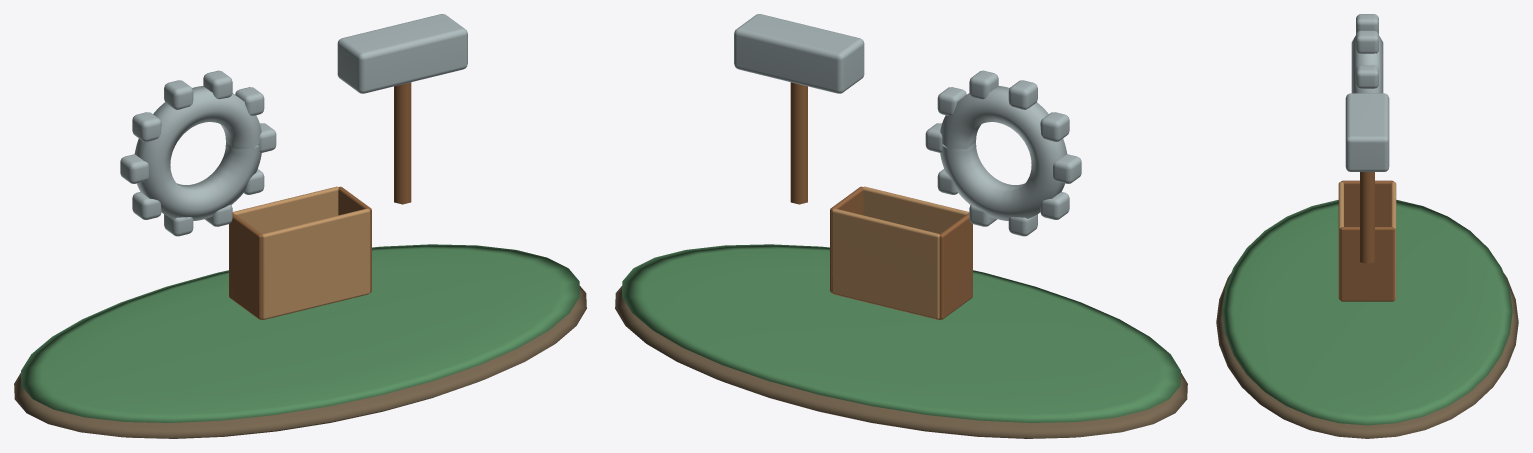
The model's file is complete-second-manufactured-built.glb.
3 views of the same model, side by side, from view 1: azimuth 30°, elevation 25°; view 2: azimuth 150°, elevation 25°; view 3: azimuth 270°, elevation 25° (orthographic). The views are drawn at different scales.
Parts seen in each view (by area): view 1: complete-second-manufactured-built_surface_01, complete-second-manufactured-built_surface_02, complete-second-manufactured-built_surface_04, complete-second-manufactured-built_surface_00, complete-second-manufactured-built_surface_03; view 2: complete-second-manufactured-built_surface_01, complete-second-manufactured-built_surface_02, complete-second-manufactured-built_surface_04, complete-second-manufactured-built_surface_00, complete-second-manufactured-built_surface_03; view 3: complete-second-manufactured-built_surface_01, complete-second-manufactured-built_surface_03, complete-second-manufactured-built_surface_02, complete-second-manufactured-built_surface_00, complete-second-manufactured-built_surface_04.
Part boxes in pixels (box(x1,y1,x2,y2)): complete-second-manufactured-built_surface_01: box(21, 244, 579, 422); complete-second-manufactured-built_surface_02: box(120, 14, 467, 236); complete-second-manufactured-built_surface_04: box(232, 186, 370, 319); complete-second-manufactured-built_surface_00: box(14, 286, 586, 438); complete-second-manufactured-built_surface_03: box(229, 82, 411, 319); complete-second-manufactured-built_surface_01: box(622, 244, 1180, 422); complete-second-manufactured-built_surface_02: box(734, 14, 1081, 236); complete-second-manufactured-built_surface_04: box(831, 186, 969, 319); complete-second-manufactured-built_surface_00: box(615, 286, 1187, 438); complete-second-manufactured-built_surface_03: box(790, 82, 972, 319); complete-second-manufactured-built_surface_01: box(1222, 200, 1512, 425); complete-second-manufactured-built_surface_03: box(1340, 172, 1394, 301); complete-second-manufactured-built_surface_02: box(1345, 14, 1389, 171); complete-second-manufactured-built_surface_00: box(1216, 273, 1518, 438); complete-second-manufactured-built_surface_04: box(1338, 182, 1396, 299).
Size of the model in its own units: 4.56 by 2.45 by 2.5.
